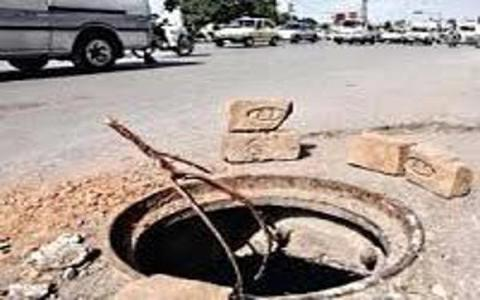open manhole: (109, 172, 443, 295)
